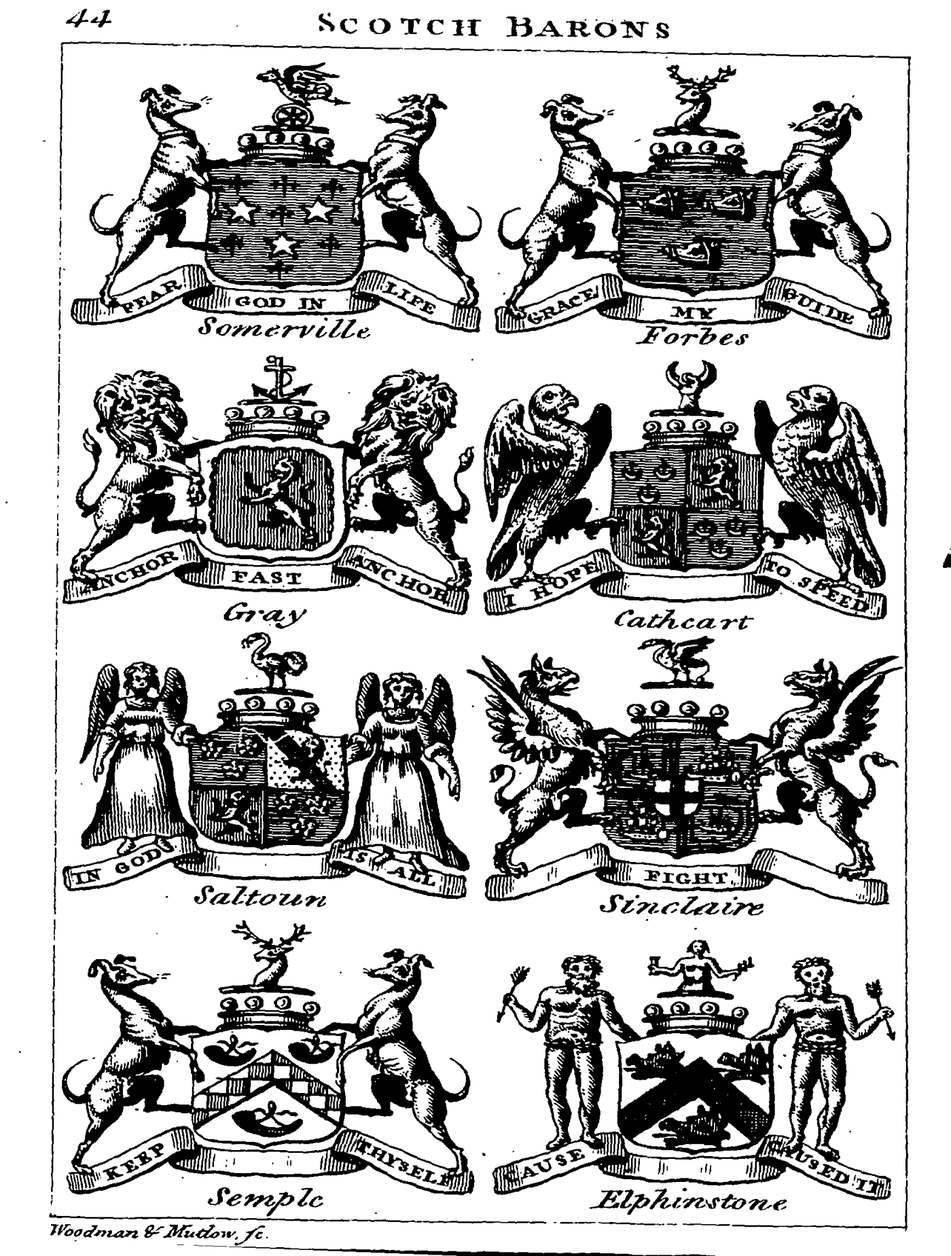coat_of_arms: (77, 53, 486, 355), (476, 634, 901, 924), (490, 55, 897, 356), (65, 632, 484, 921), (489, 927, 900, 1214), (61, 362, 476, 634), (75, 929, 476, 1210), (481, 365, 894, 635)
